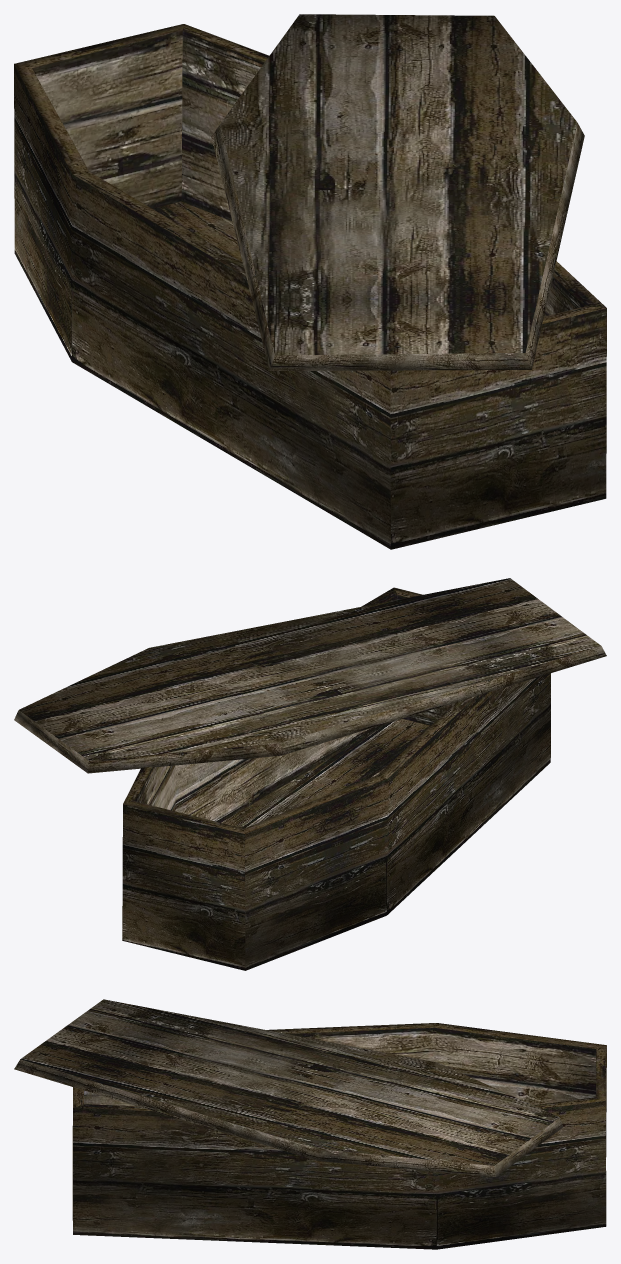
The model's file is KM_VOB_COFFINOPEN_02.glb.
3 renders of one model, top to bottom at view 1: azimuth 30°, elevation 25°; view 2: azimuth 150°, elevation 25°; view 3: azimuth 270°, elevation 25°, orthographic. The views are drawn at different scales.
Parts seen in each view (by area): view 1: Mesh; view 2: Mesh; view 3: Mesh.
Part boxes in pixels (<box>): Mesh: <box>14,14,606,549</box>; Mesh: <box>14,578,606,970</box>; Mesh: <box>14,999,606,1249</box>.
Bounding box in the file's own units: 1.52 × 0.5663 × 2.23.
1 material, 1 textured.
